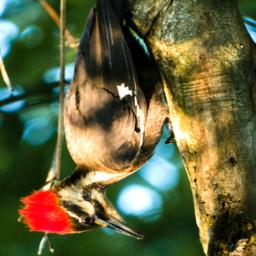Woodpecker: (19, 0, 184, 243)
